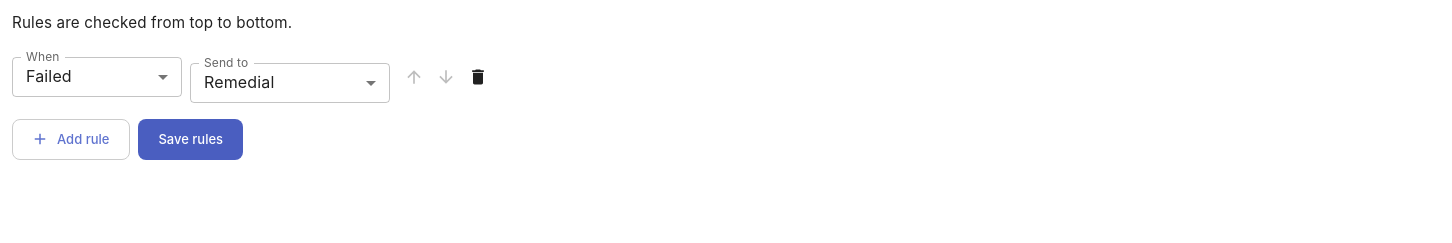
it: QuizBranching › shows why the server refused the rules
The image size is (1452, 243).
Click the button "Save rules" at (191, 139), box [138,119,243,160]
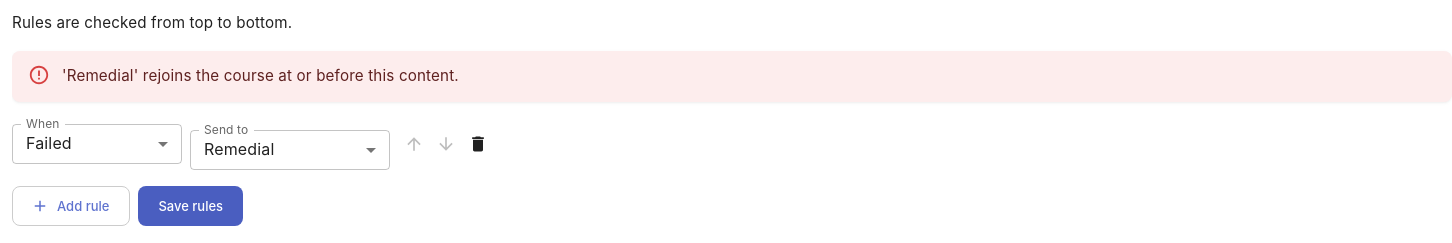
Now the text "'Remedial' rejoins the course at or before this content." is shown, box [62,66,459,85]
